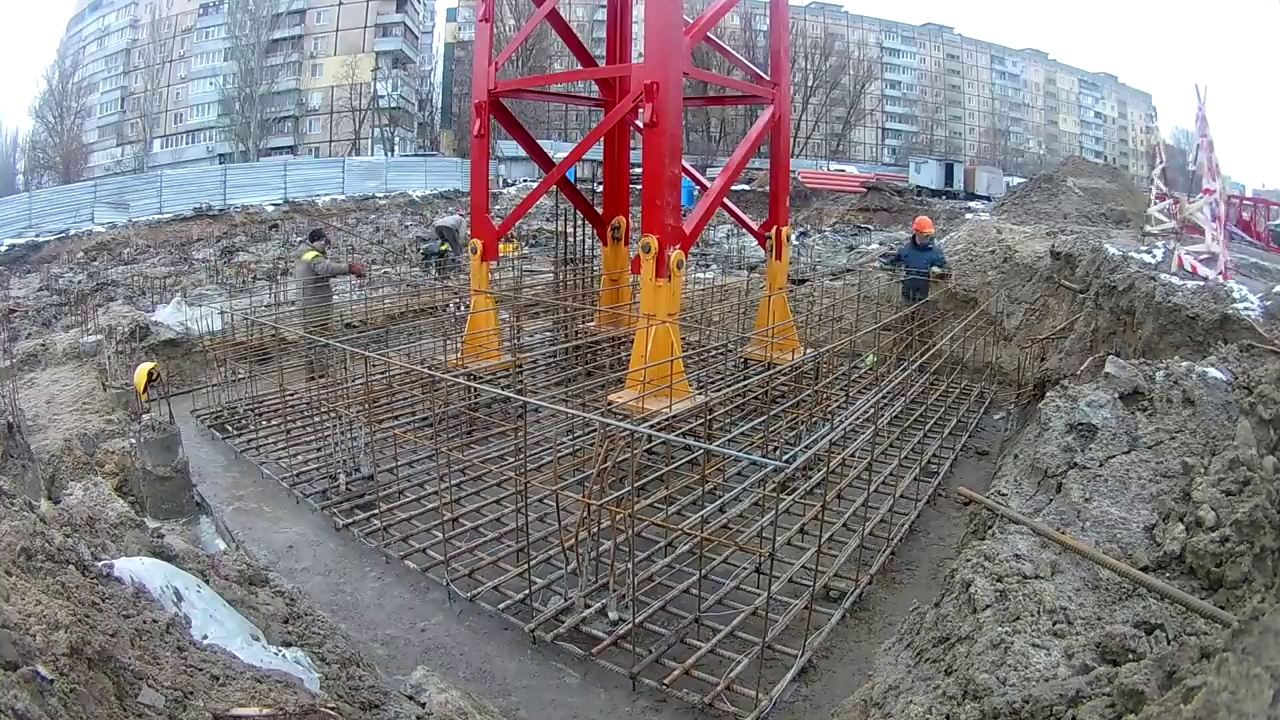helmet: (133, 361, 158, 402), (912, 216, 935, 235)
helmet-off: (305, 230, 330, 256)
helmet-on: (909, 214, 937, 246)
person: (291, 230, 363, 340), (901, 214, 948, 305), (424, 216, 466, 264)
